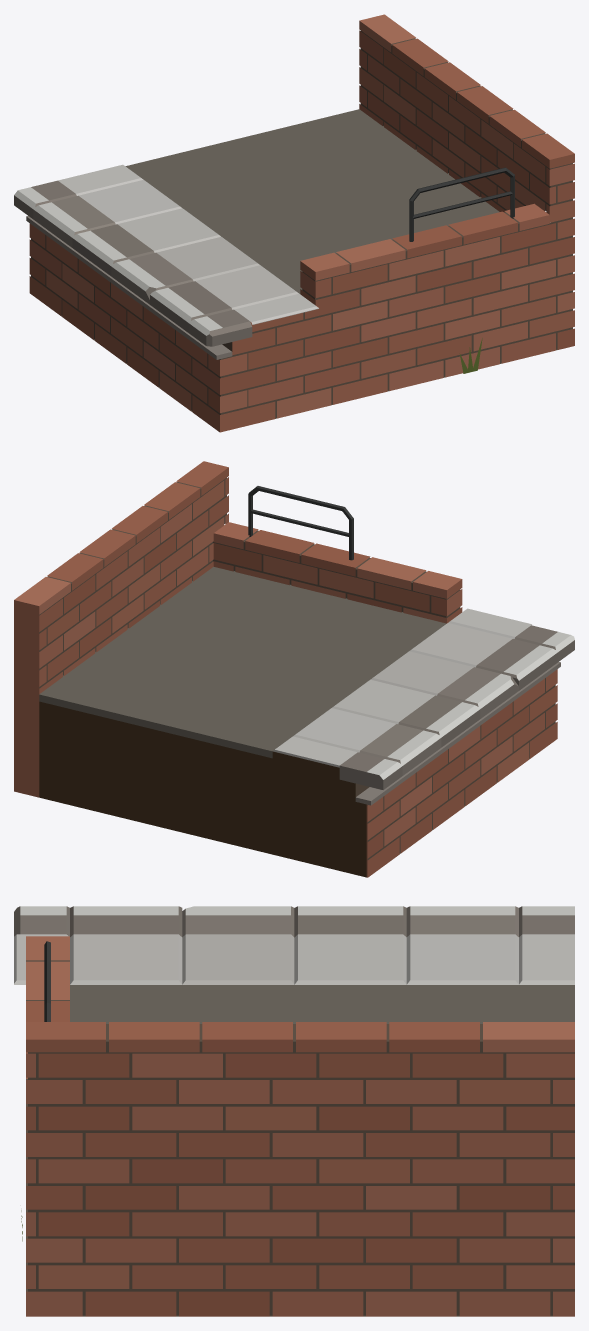
The model's file is platform-run-3738d0.glb.
3 views of the same model, one above another, from view 1: azimuth 30°, elevation 25°; view 2: azimuth 150°, elevation 25°; view 3: azimuth 270°, elevation 25° (orthographic). The views are drawn at different scales.
Visible parts, largest first — view 1: platform-run-body; view 2: platform-run-body; view 3: platform-run-body.
Part boxes in pixels (x1,y1,x2,y2): platform-run-body: (14,14,574,432); platform-run-body: (14,461,574,877); platform-run-body: (14,906,574,1316).
Size of the model in its own units: 4.4 by 2.18 by 4.
